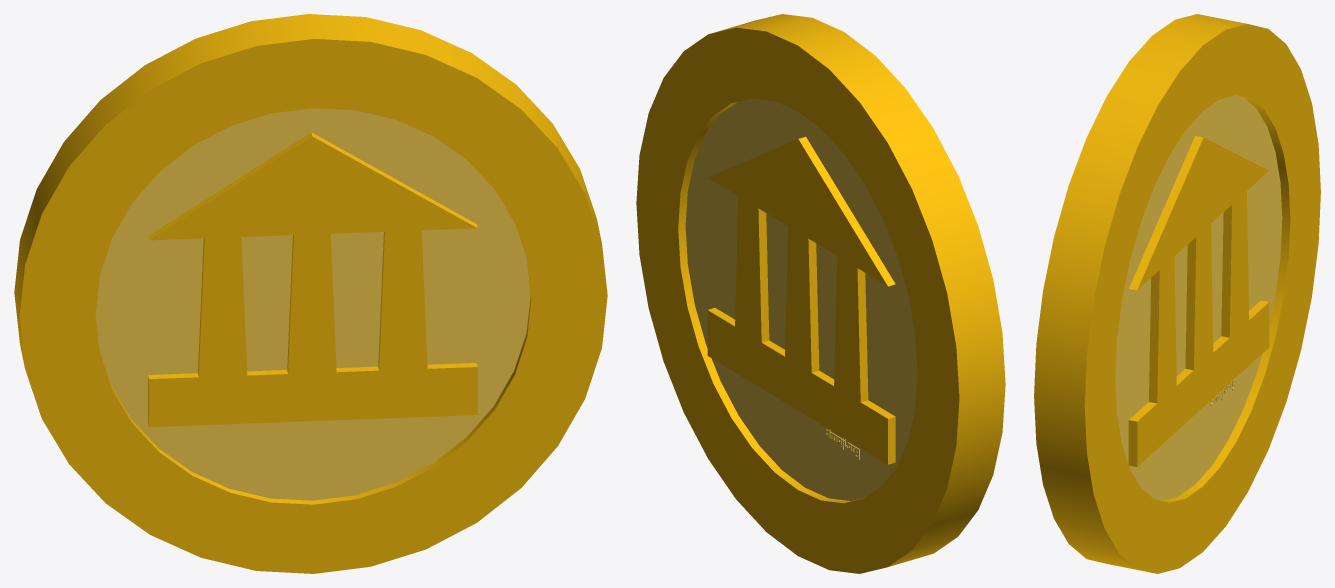
File: coin.fbx
The picture shows the model from 3 angles, left to right: view 1: azimuth 30°, elevation 25°; view 2: azimuth 150°, elevation 25°; view 3: azimuth 270°, elevation 25°; orthographic projection. The views are drawn at different scales.
Parts seen in each view (by area): view 1: Circle.2561; view 2: Circle.2561; view 3: Circle.2561.
Part boxes in pixels (left/top/right/bottom): Circle.2561: left=14, top=14, right=607, bottom=573; Circle.2561: left=636, top=14, right=1005, bottom=573; Circle.2561: left=1034, top=14, right=1320, bottom=573.
Size of the model in its own units: 209 by 220 by 113.
Materials: 1 (1 with a texture image).
